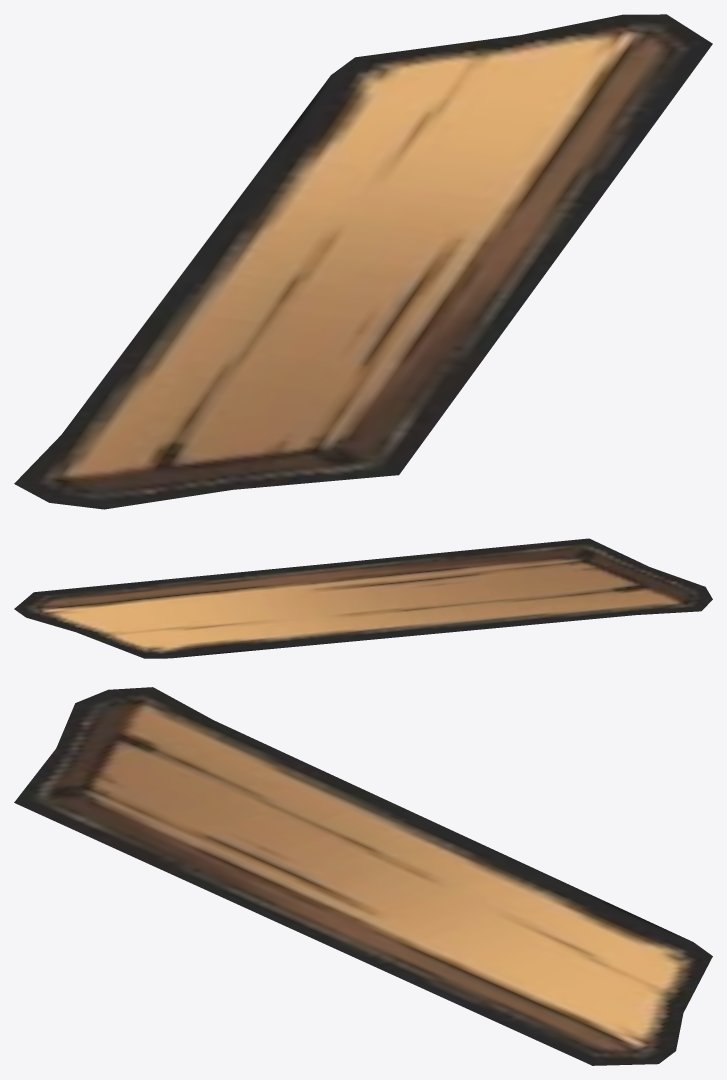
The model's file is wood_particle.glb.
3 renders of one model, top to bottom at view 1: azimuth 30°, elevation 25°; view 2: azimuth 150°, elevation 25°; view 3: azimuth 270°, elevation 25°, orthographic. The views are drawn at different scales.
Visible parts, largest first — view 1: UI_Wood001; view 2: UI_Wood001; view 3: UI_Wood001.
Part boxes in pixels (x1,y1,x2,y2): UI_Wood001: (14,14,712,509); UI_Wood001: (14,538,712,658); UI_Wood001: (14,687,712,1065).
Bounding box in the file's own units: 1.01 × 0 × 0.7844.
1 material, 1 textured.
